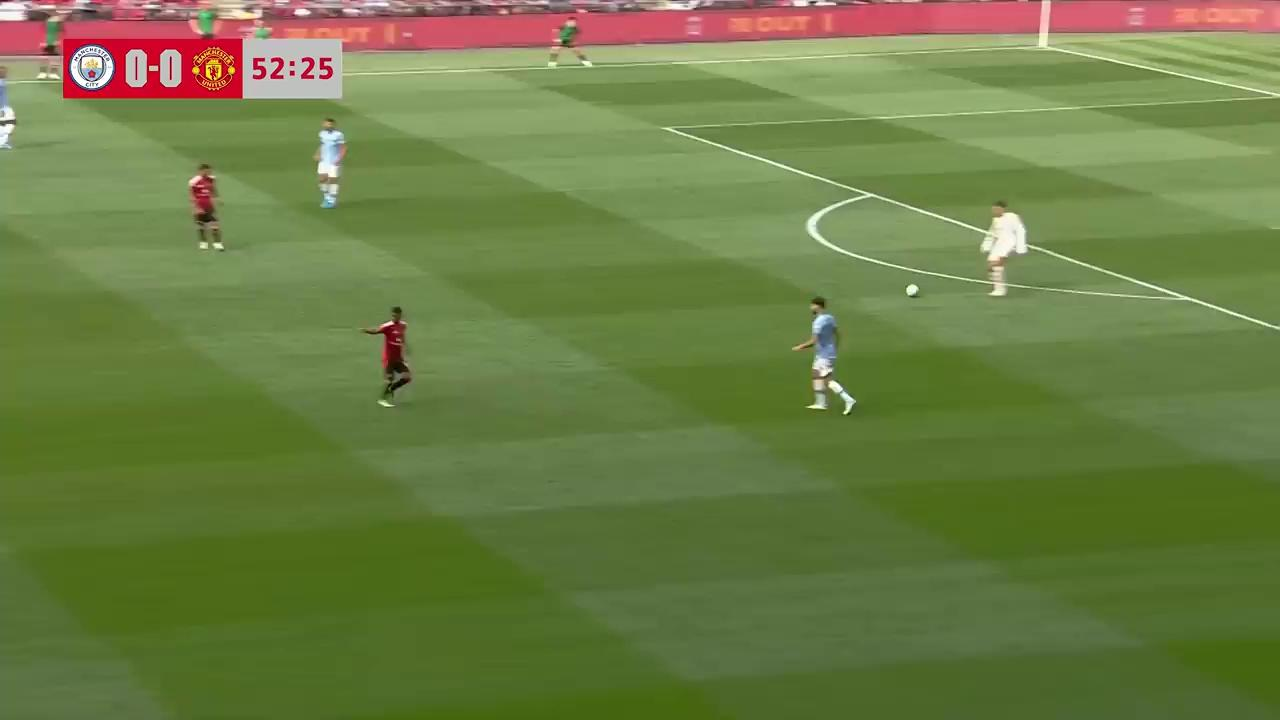ball: (904, 280, 919, 298)
player: (791, 298, 858, 416), (360, 305, 413, 407), (981, 197, 1030, 297), (188, 162, 226, 253), (313, 116, 346, 209), (0, 89, 16, 152)
